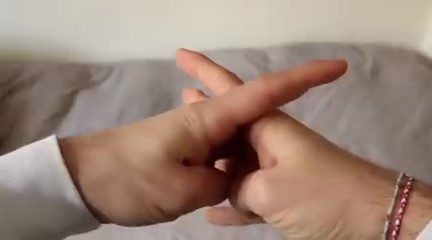W: (89, 38, 384, 236)
